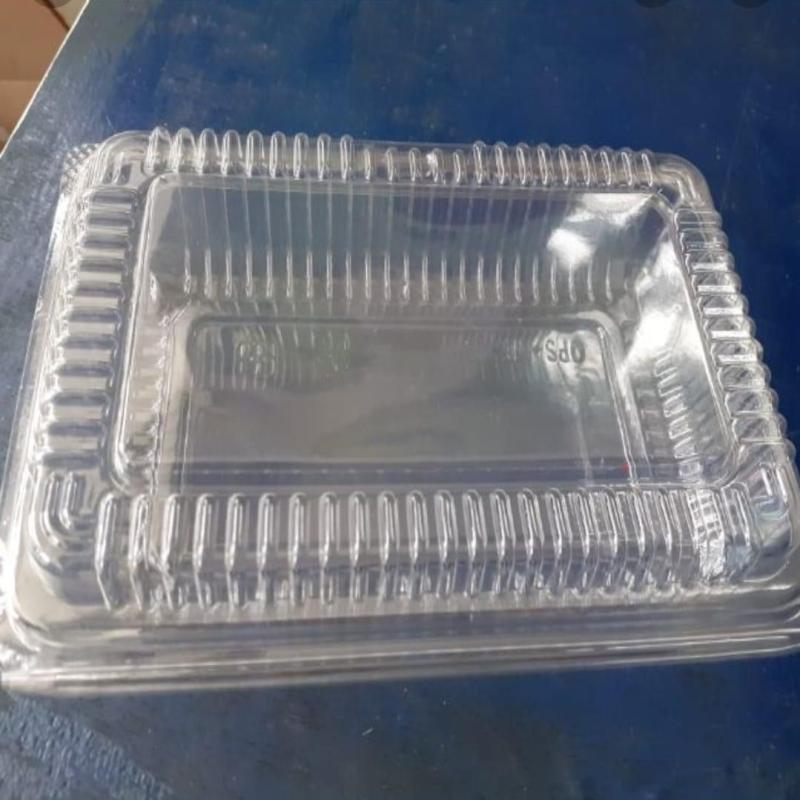plastic container: (0, 128, 800, 704)
